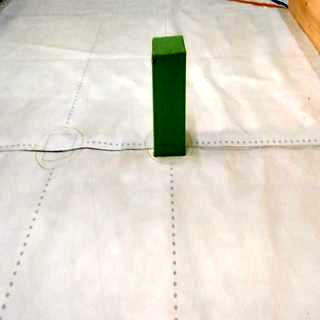greenbox: (151, 35, 188, 156)
